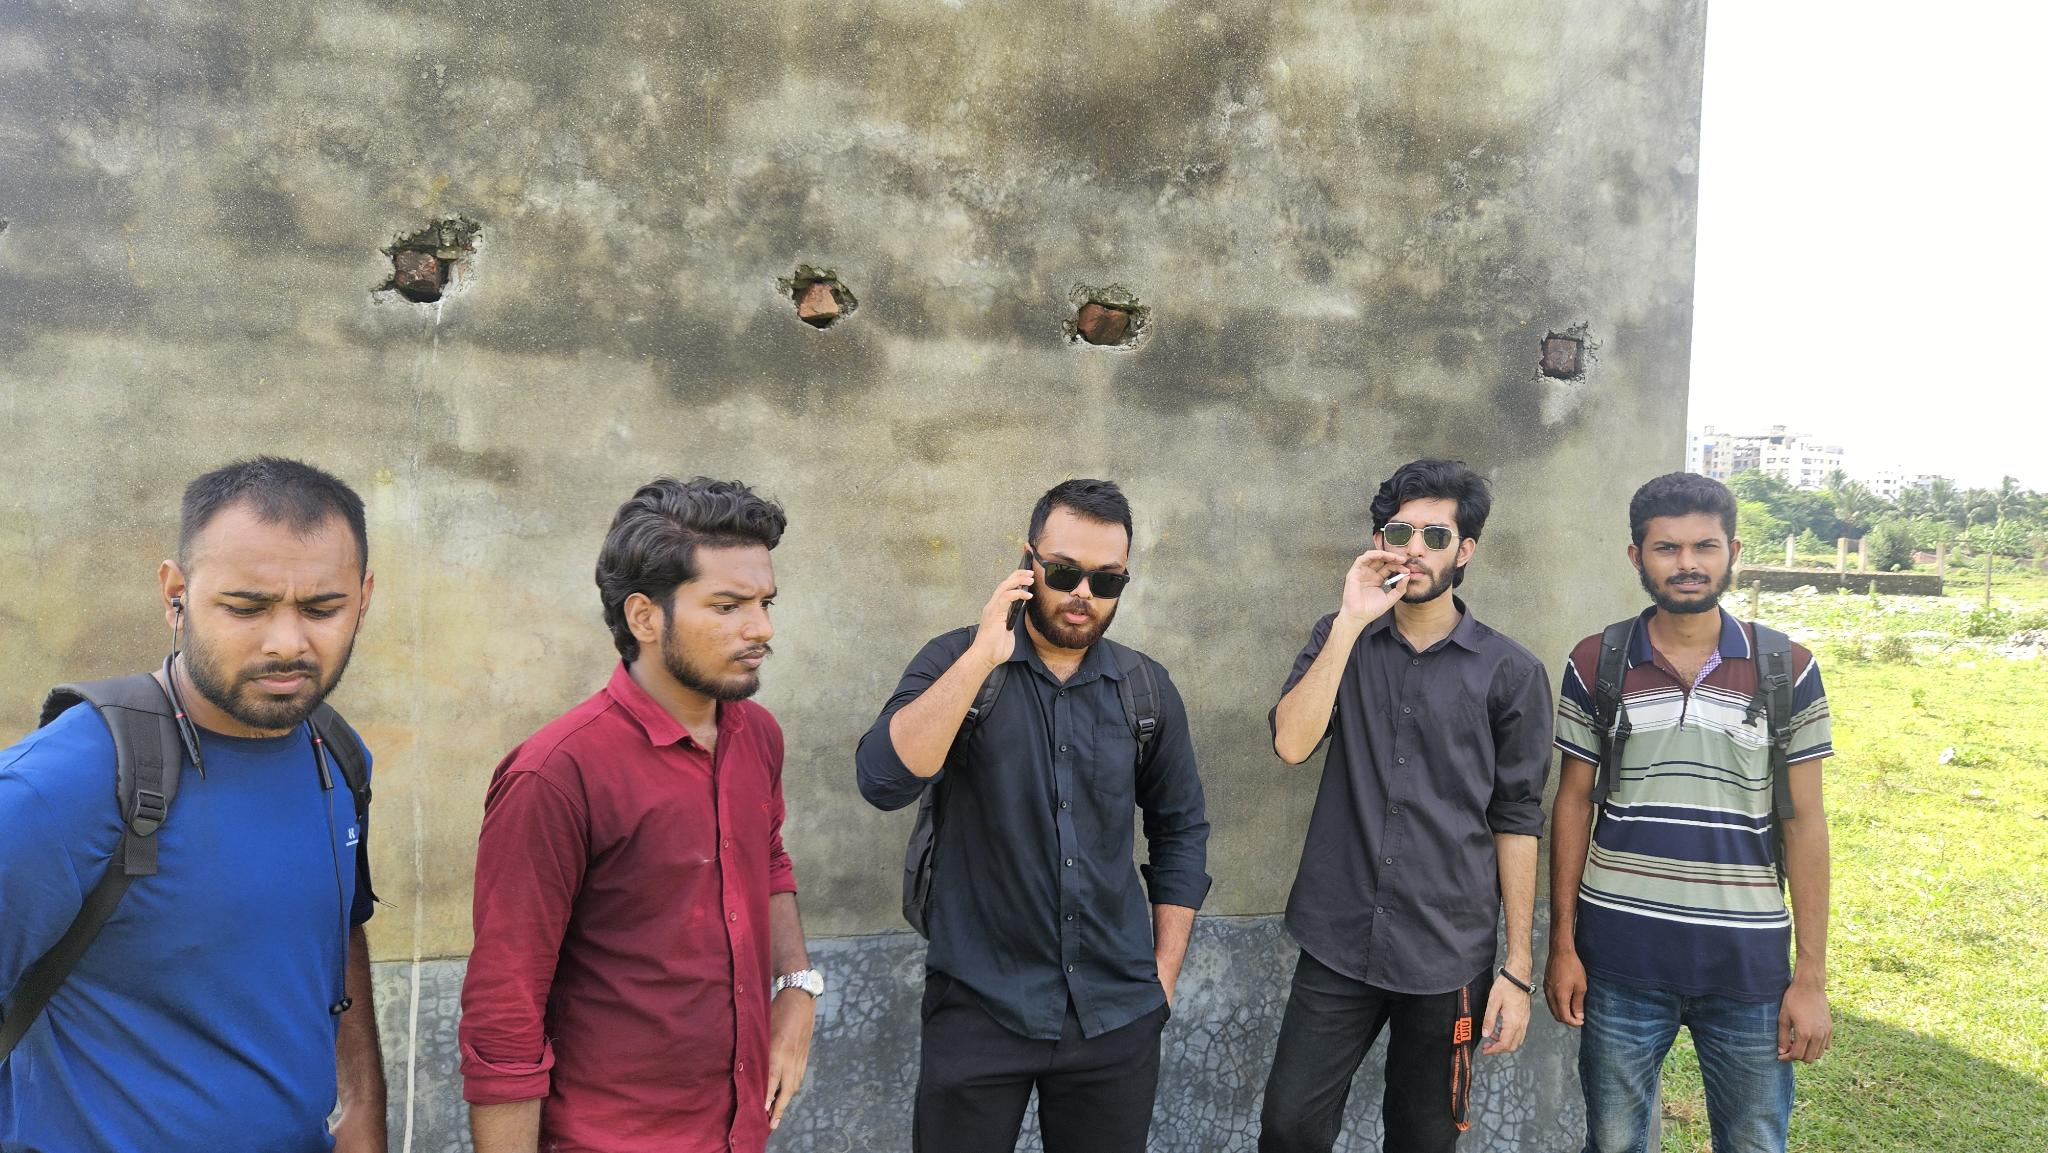cigarette: (1383, 571, 1411, 588)
nonSmoker: (0, 457, 390, 1153), (459, 475, 824, 1153), (855, 477, 1211, 1153), (1542, 470, 1837, 1153)
smoker: (1259, 456, 1553, 1153)
